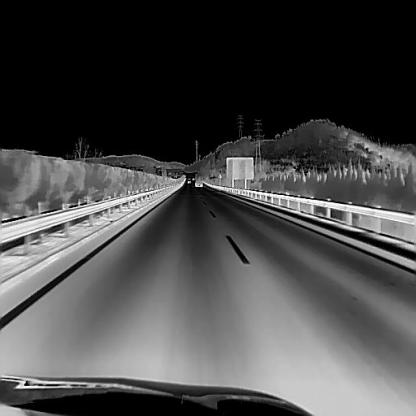truck: (194, 172, 202, 186)
